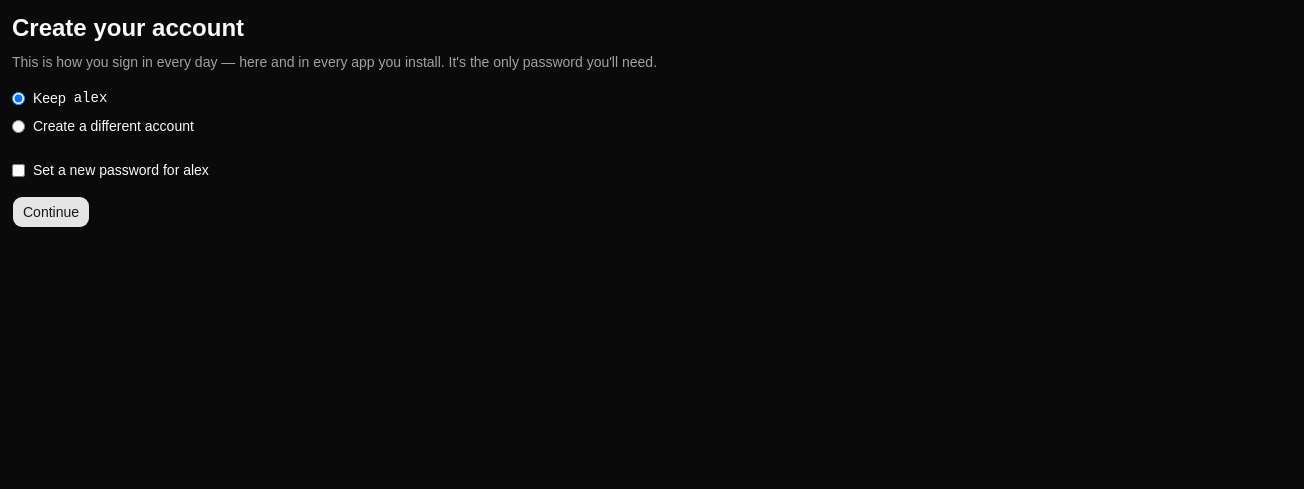
Test: AccountStep › after a reset: a different account shows the username field
What coordinates should you click on to do the following:
click the radio button labelled "Create a different account"
I would click on:
 (18, 126)
Its box is [12, 120, 25, 132].
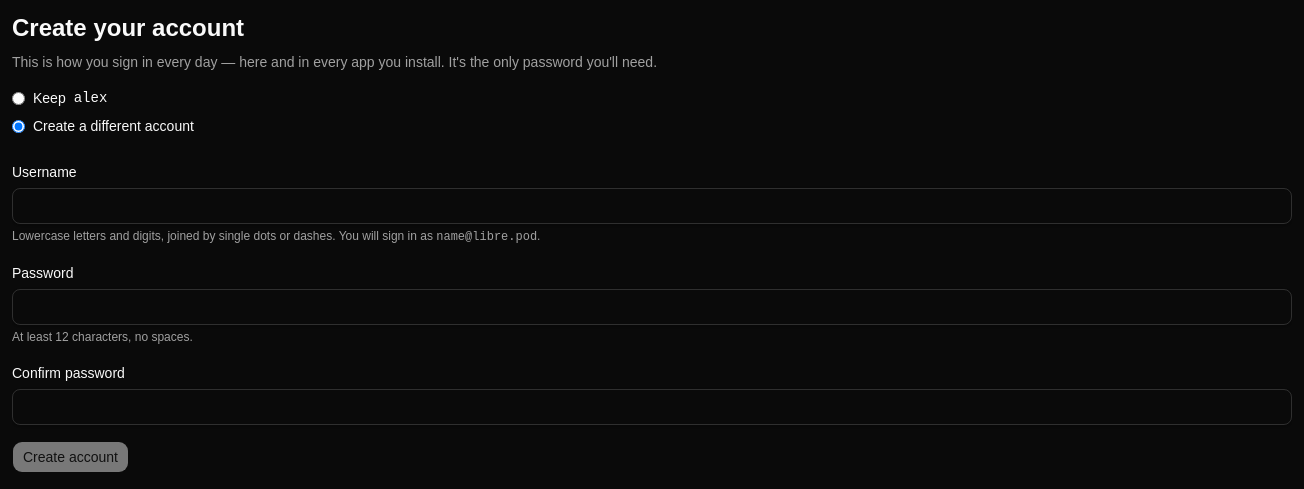
Expected: the field labelled "Username" is shown, [12, 188, 1292, 224]
